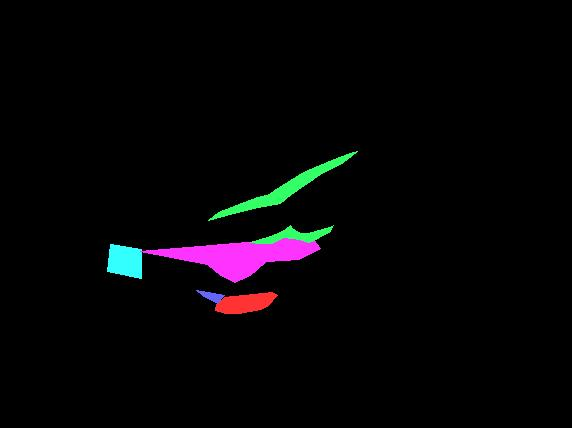Broken part: (208, 151, 357, 220), (250, 225, 333, 243)
Dent: (140, 234, 320, 282)
Flaking: (107, 244, 141, 278)
Missing part: (215, 292, 277, 313)
Scratch: (196, 290, 224, 303)
